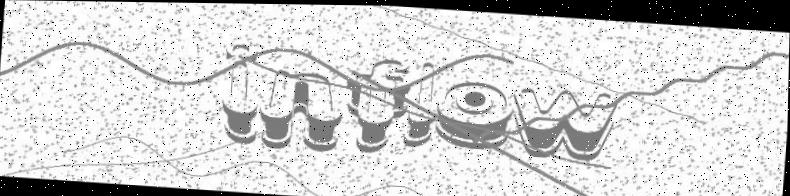f: (343, 54, 413, 154)
i: (219, 39, 264, 145)
l: (402, 59, 439, 147)
n: (257, 65, 344, 152)
o: (433, 77, 516, 151)
w: (512, 83, 619, 161)
